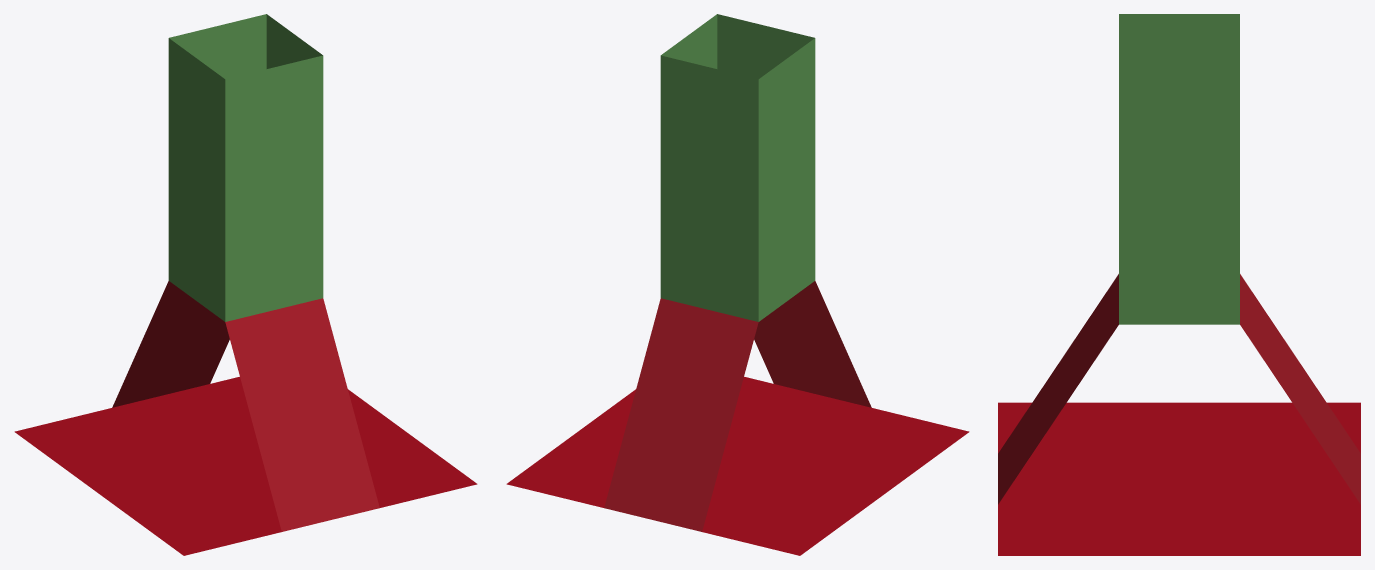
Rendered from hiway01.obj.
3 views of the same model, side by side, from view 1: azimuth 30°, elevation 25°; view 2: azimuth 150°, elevation 25°; view 3: azimuth 270°, elevation 25° (orthographic). The views are drawn at different scales.
Visible parts, largest first — view 1: Cube.012_Cube.017; view 2: Cube.012_Cube.017; view 3: Cube.012_Cube.017.
Part boxes in pixels (bbox=[...]): Cube.012_Cube.017: bbox=[14, 14, 477, 555]; Cube.012_Cube.017: bbox=[506, 14, 969, 555]; Cube.012_Cube.017: bbox=[998, 14, 1360, 555].
Size of the model in its own units: 120 by 160 by 120.
